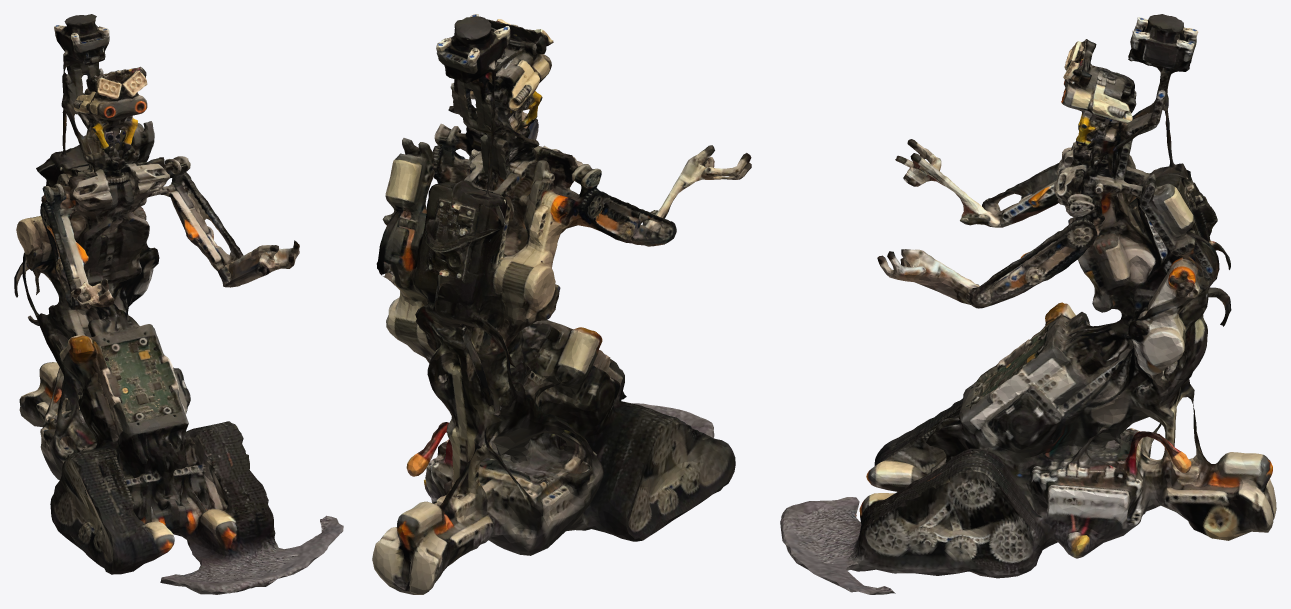
The model's file is betabot_scan.glb.
3 views of the same model, side by side, from view 1: azimuth 30°, elevation 25°; view 2: azimuth 150°, elevation 25°; view 3: azimuth 270°, elevation 25° (orthographic). The views are drawn at different scales.
Bounding box in the file's own units: 0.2728 × 0.486 × 0.4172.
1 material, 1 textured.
